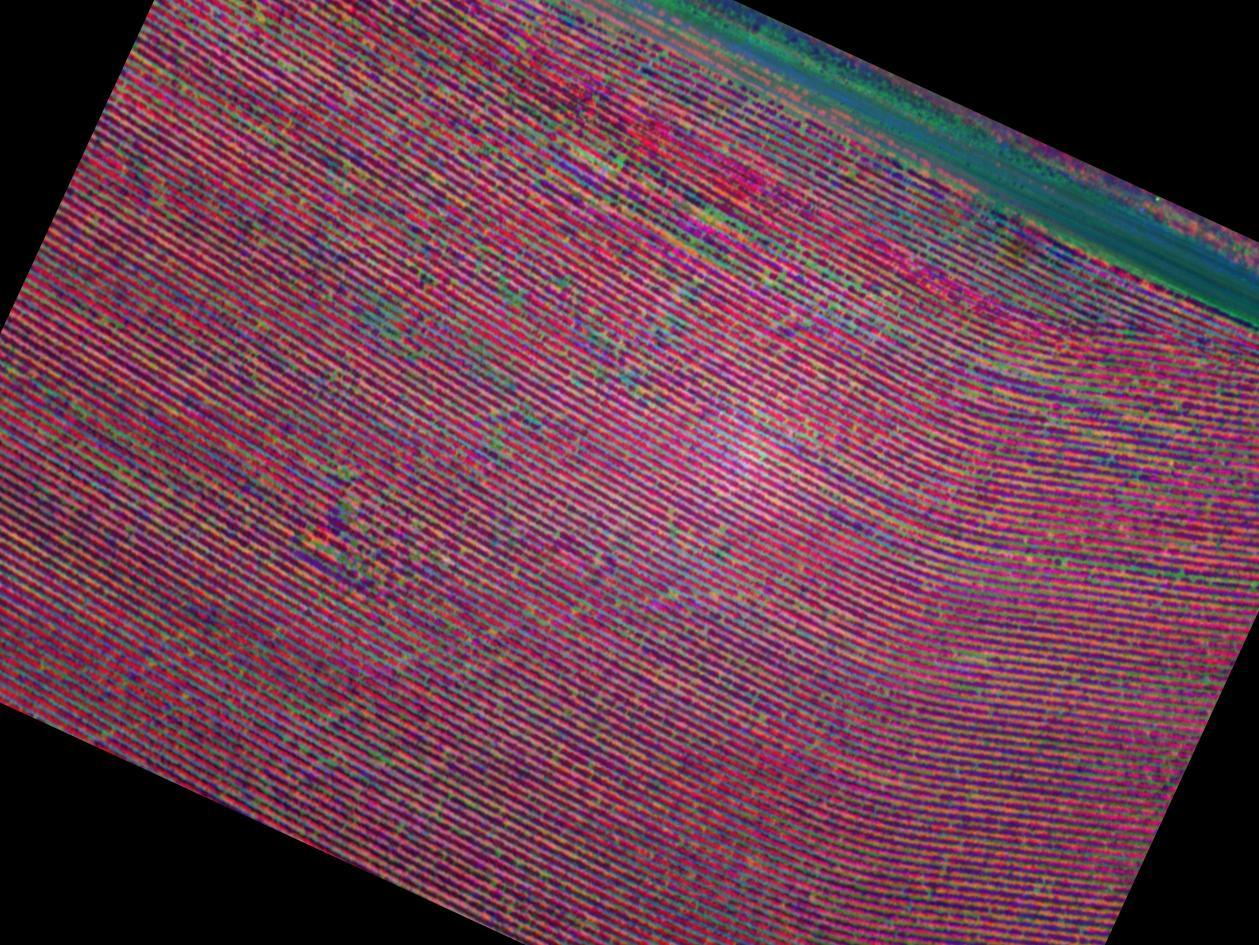dc: (755, 252, 834, 338), (679, 163, 771, 236), (563, 116, 638, 201), (940, 624, 1009, 692)
